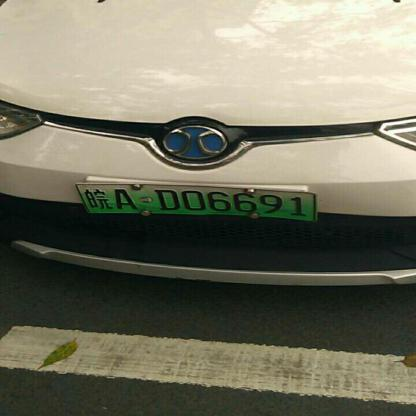lp: (75, 184, 316, 221)
